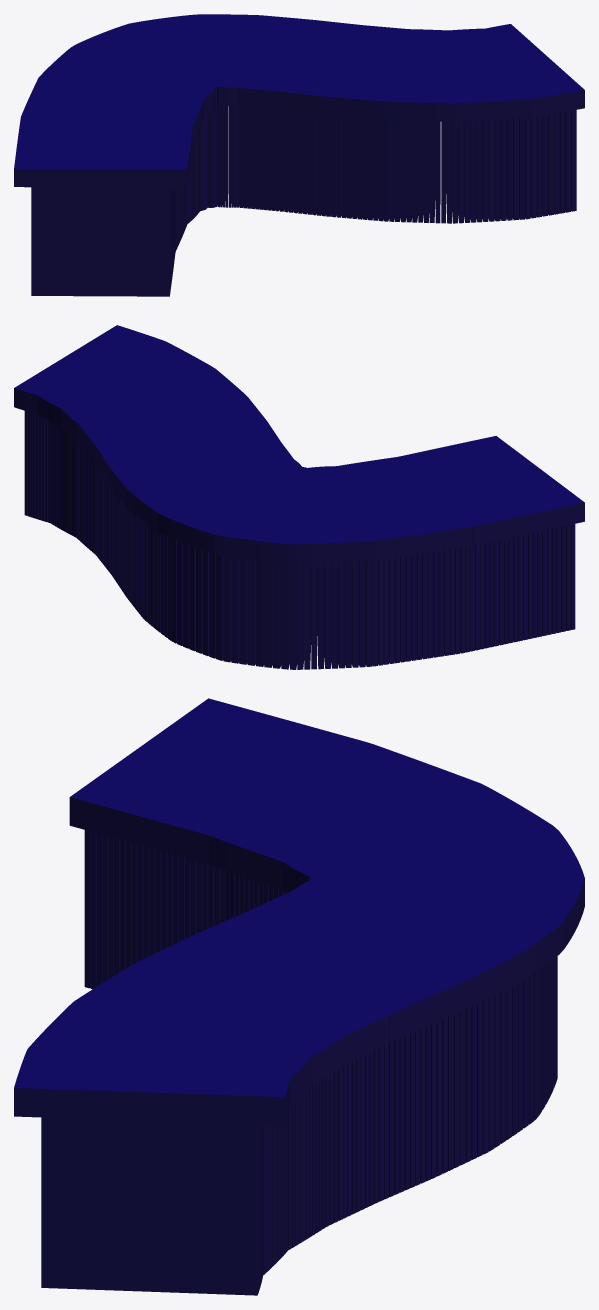
Rendered from Club Desk 1.fbx.
3 renders of one model, top to bottom at view 1: azimuth 30°, elevation 25°; view 2: azimuth 150°, elevation 25°; view 3: azimuth 270°, elevation 25°, orthographic. The views are drawn at different scales.
Parts seen in each view (by area): view 1: Plane; view 2: Plane; view 3: Plane.
Part boxes in pixels (x1,y1,x2,y2): Plane: (14,14,584,296); Plane: (14,325,584,669); Plane: (14,698,584,1295).
Bounding box in the file's own units: 224 × 52.32 × 136.
